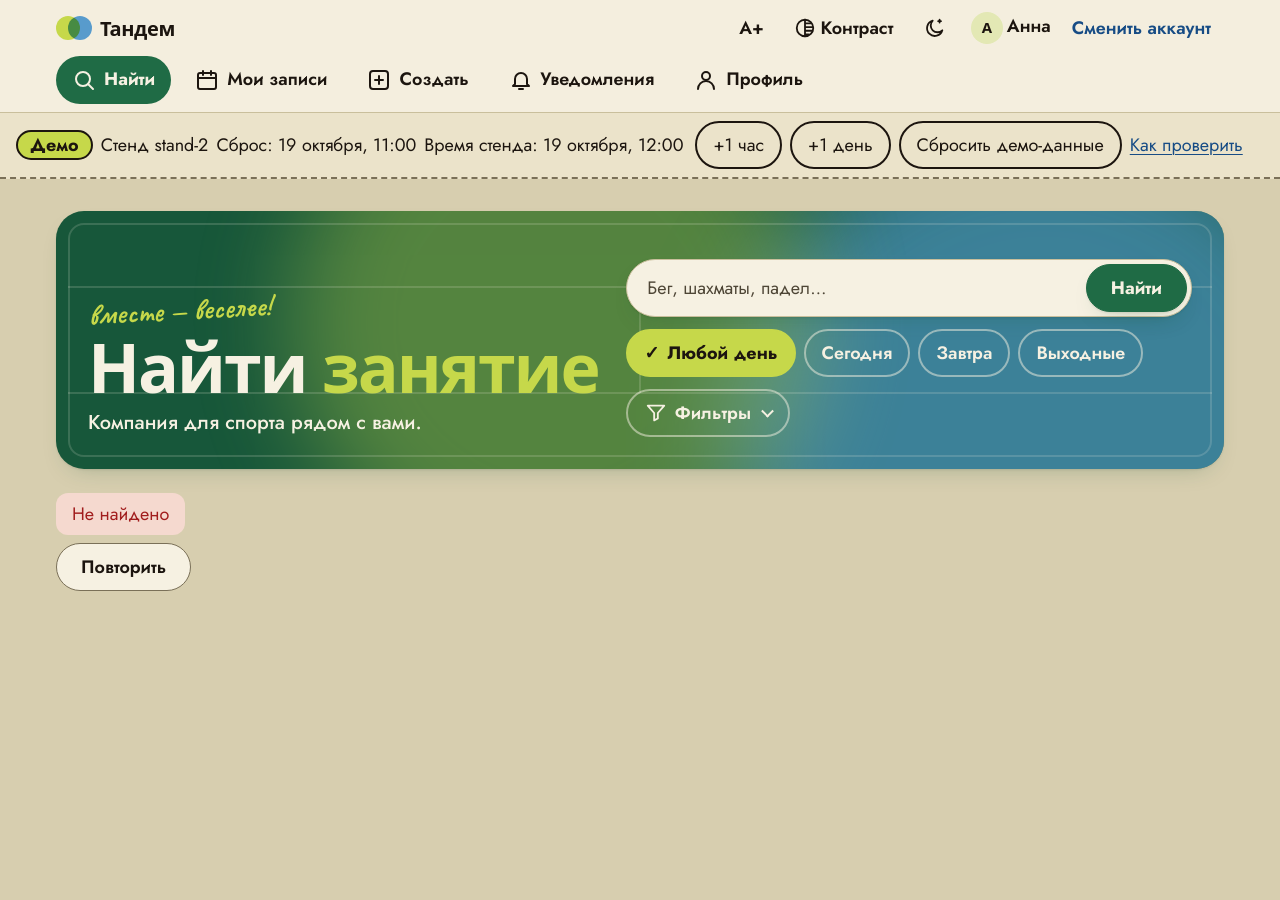
Test: демо-панель (ТЗ 4.6) › после подтверждения сброса — новое время сброса, вход нужно повторить
Expected: the button "Сменить аккаунт" is shown, left=1059, top=4, right=1224, bottom=52
Click the button "Сбросить демо-данные": (1010, 145) left=899, top=121, right=1122, bottom=169
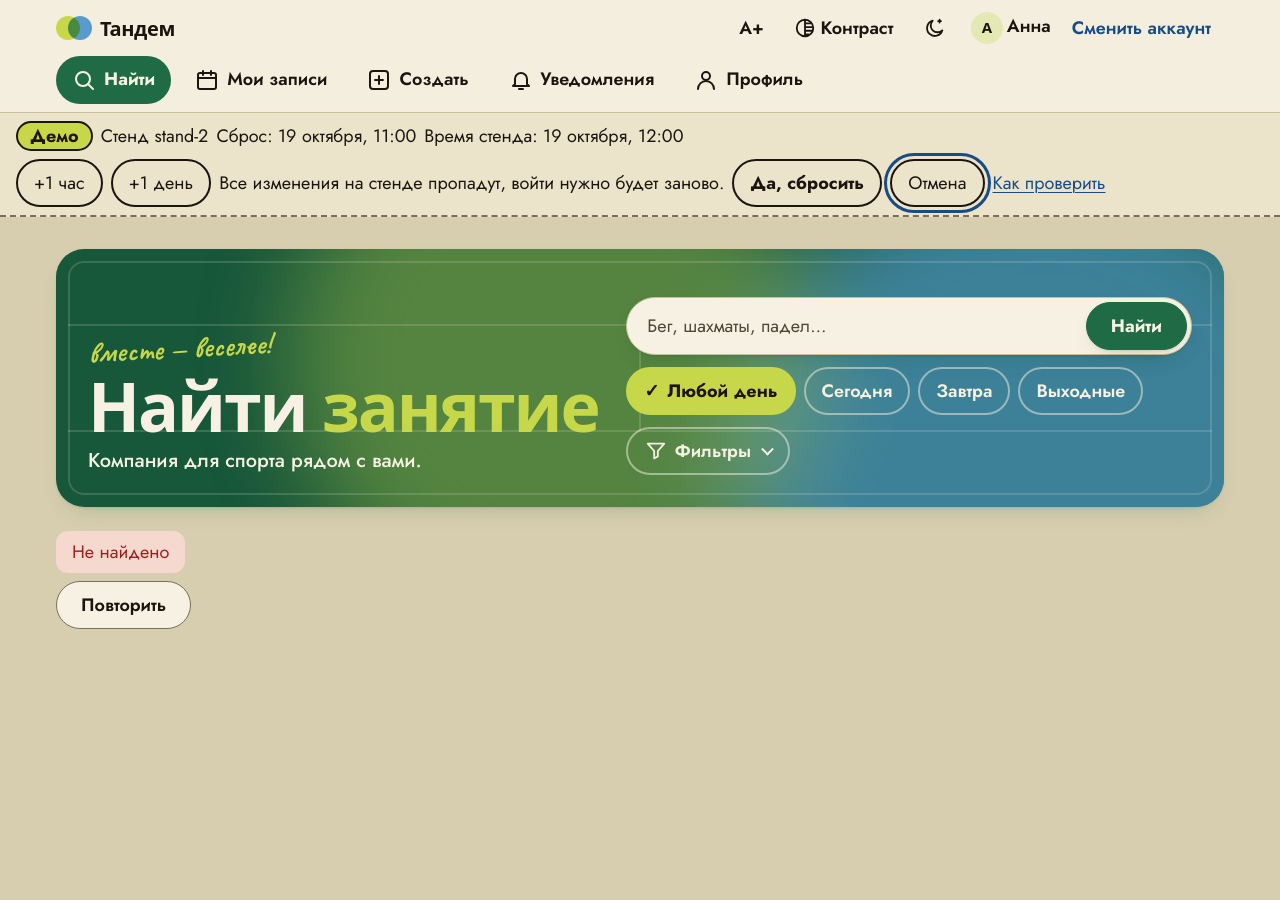
Click the button "Да, сбросить": (807, 183) left=732, top=159, right=882, bottom=207
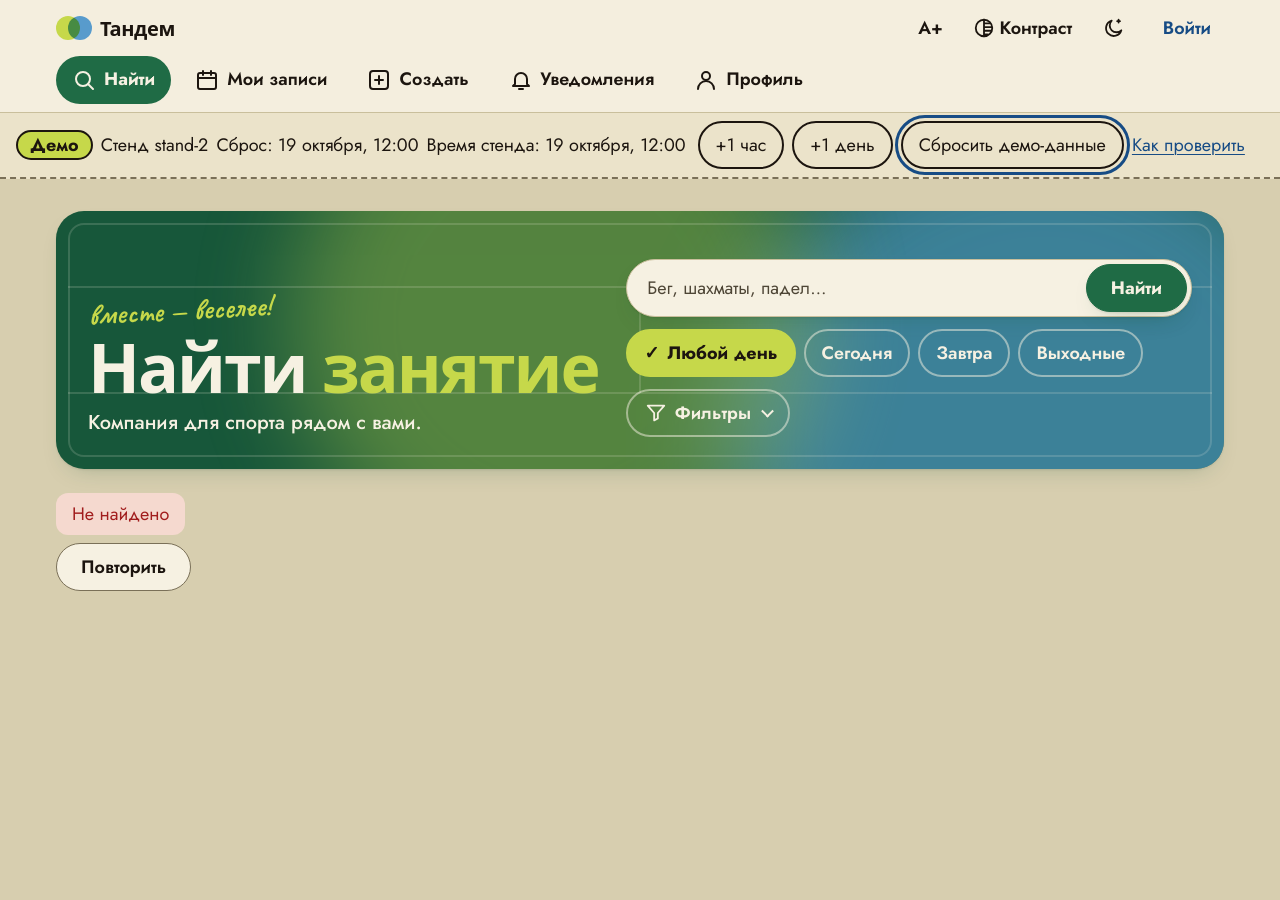
Expected: the link "Войти" is shown, left=1163, top=15, right=1211, bottom=41
Expected: the text "Сброс: 19 октября, 12:00" is shown, left=216, top=132, right=418, bottom=158
